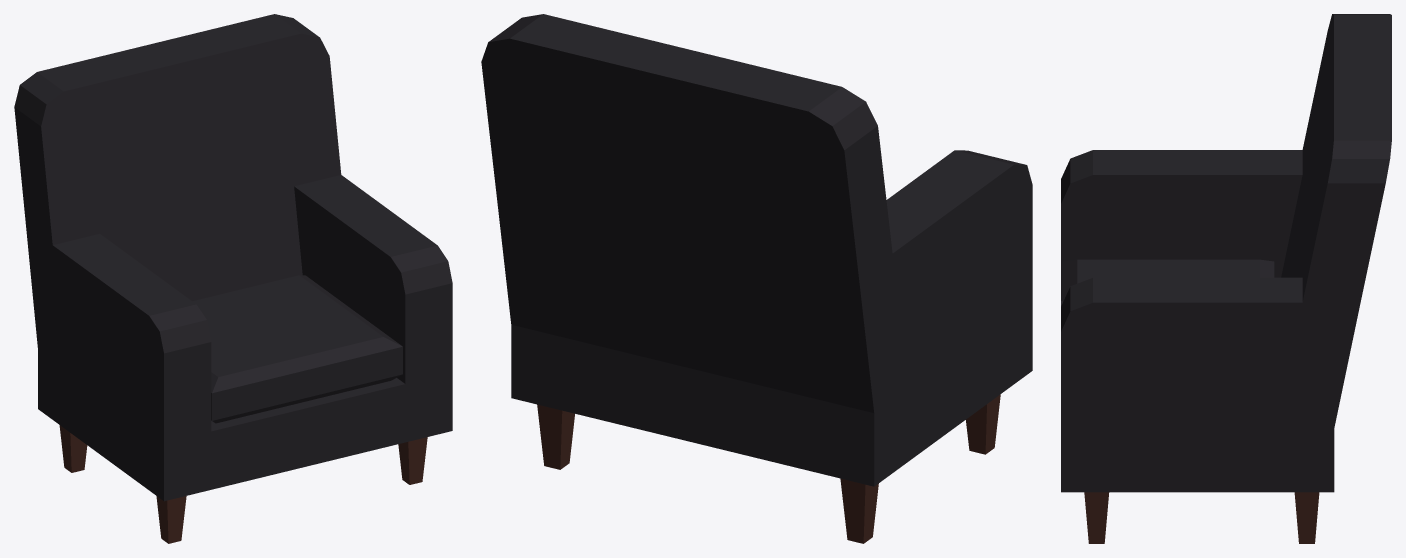
The model's file is Single Sofa.fbx.
3 views of the same model, side by side, from view 1: azimuth 30°, elevation 25°; view 2: azimuth 150°, elevation 25°; view 3: azimuth 270°, elevation 25° (orthographic). The views are drawn at different scales.
Visible parts, largest first — view 1: Single Sofa; view 2: Single Sofa; view 3: Single Sofa.
Boxes of the visible parts, box(x1,y1,x2,y2) form: Single Sofa: box(14, 14, 452, 543); Single Sofa: box(481, 14, 1032, 543); Single Sofa: box(1061, 14, 1391, 543).
Size of the model in its own units: 118 by 143 by 108.
